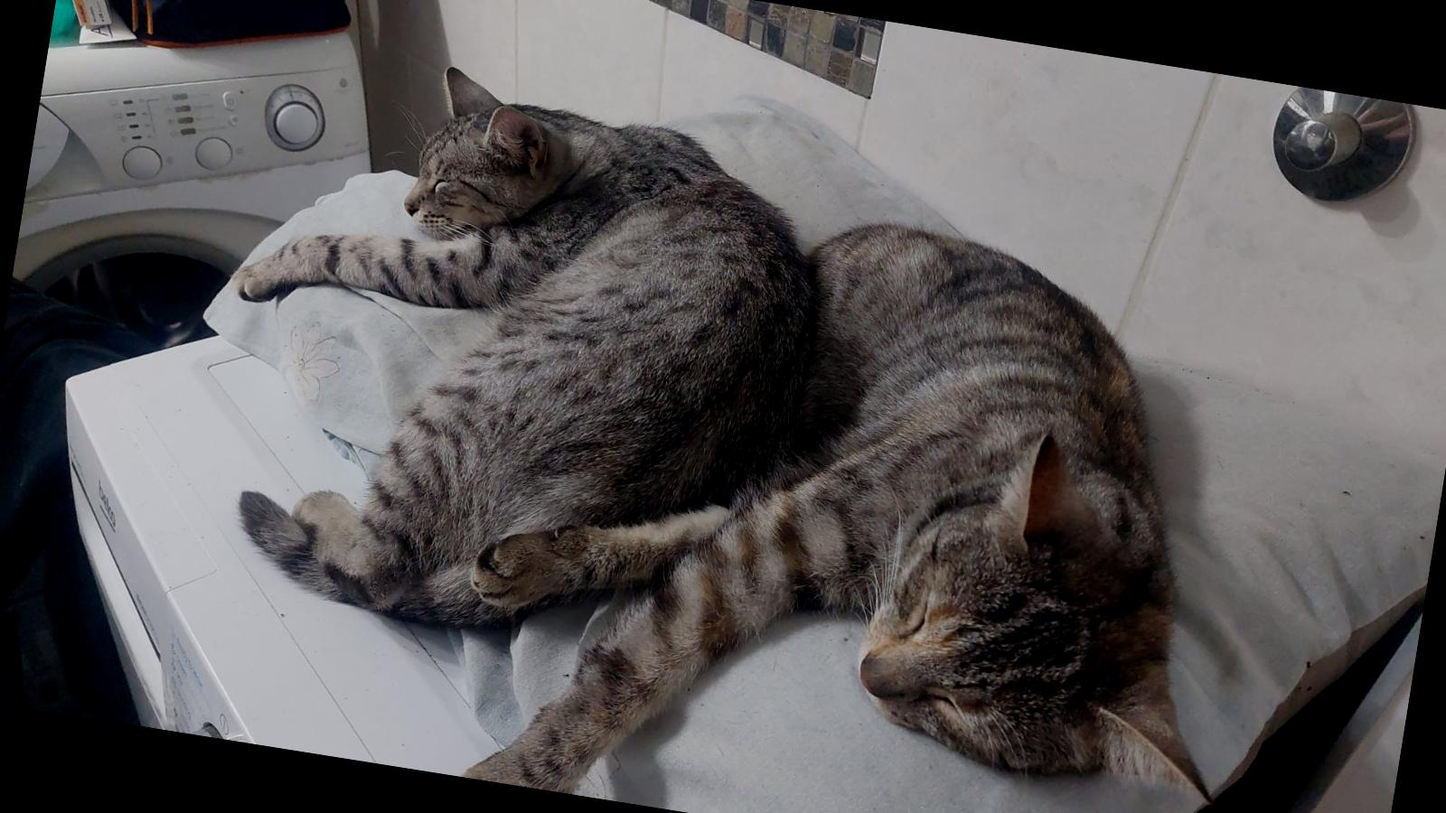macka: (441, 167, 1298, 813), (182, 33, 839, 678)
